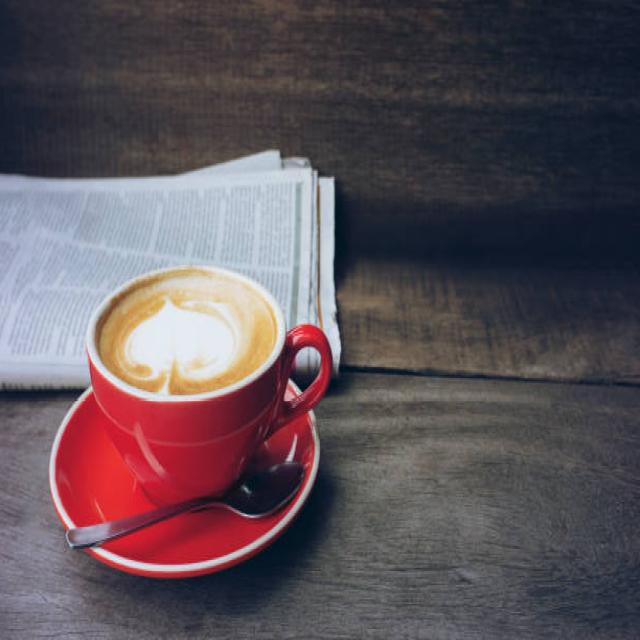Red_cup: (86, 269, 331, 503)
